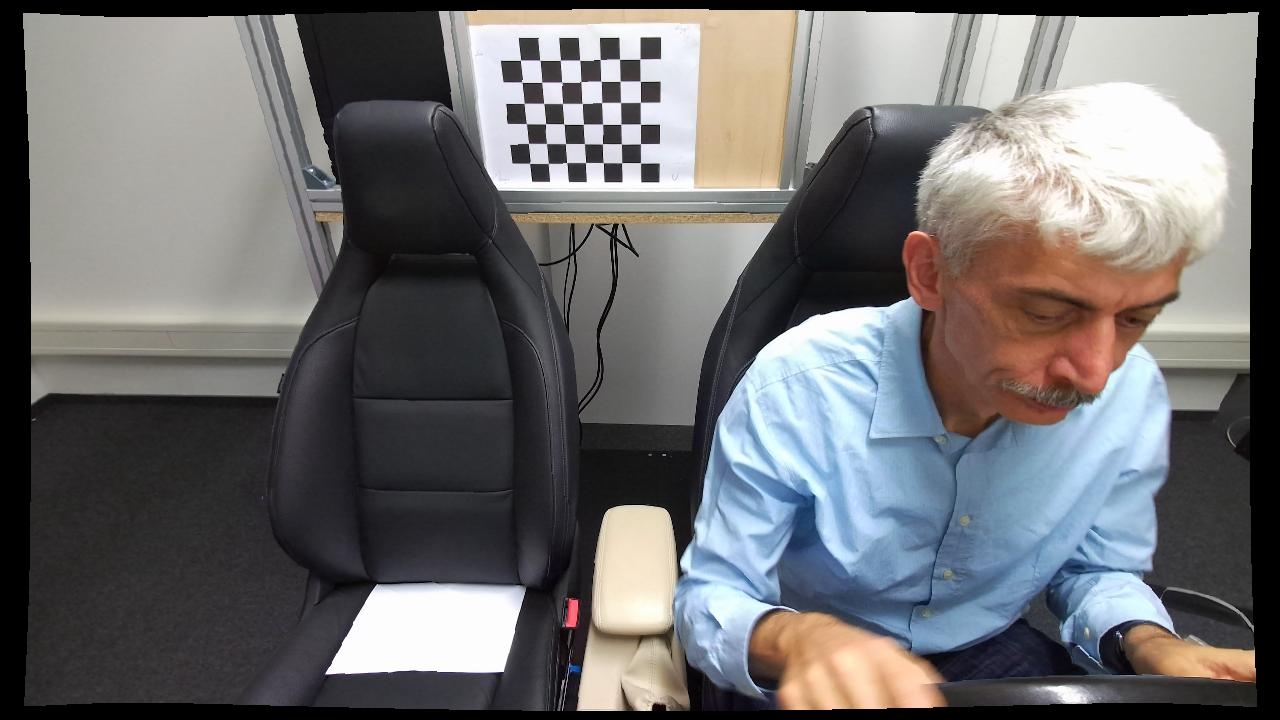Distracted: (668, 79, 1229, 716)
